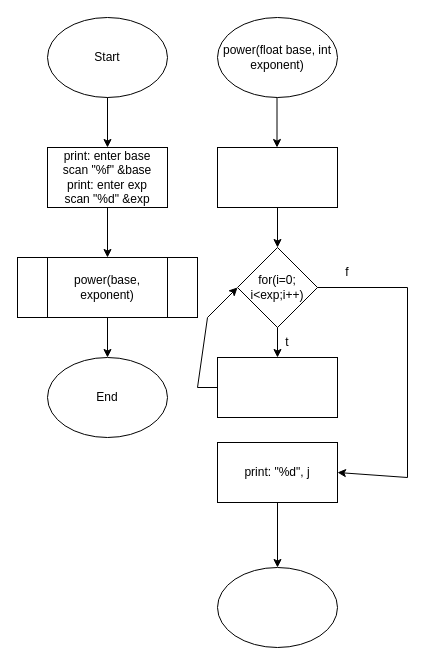
Image size: 433x665. Some labels were removed from this diagram. Here are the shapes that lost their labels. From the top down, the centre of each, then its label:
At [277,177]: "int i, j j = 1".
At [277,387]: "j *= base".
At [277,607]: "return".
